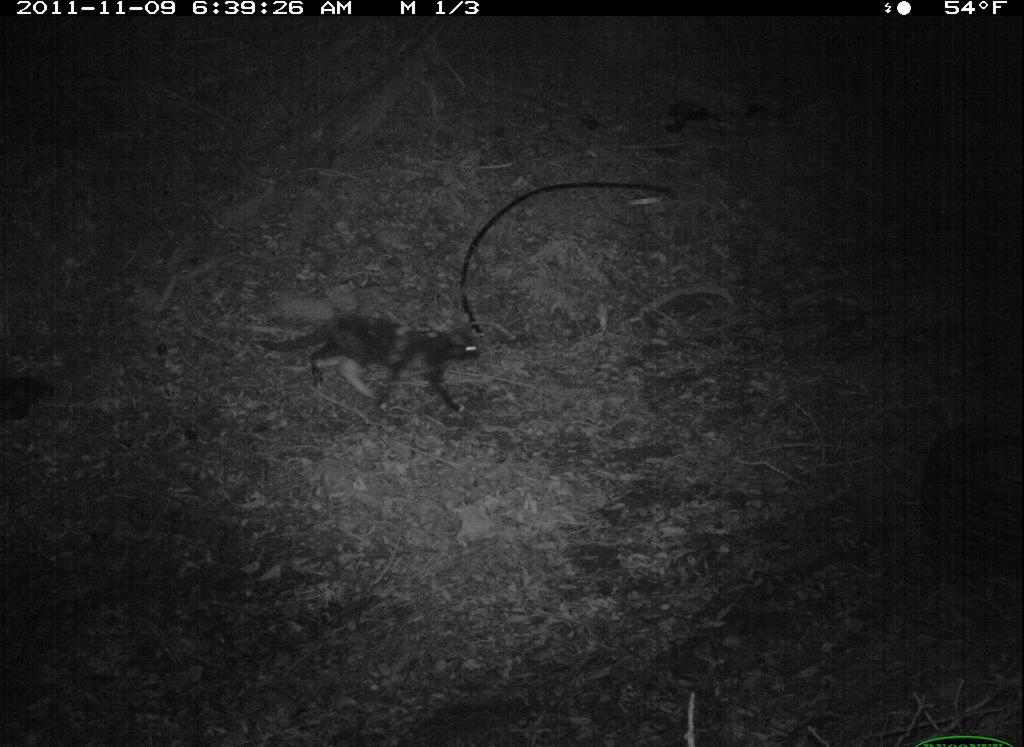cat: (250, 306, 497, 423)
